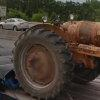Tractor: (13, 13, 97, 99)
